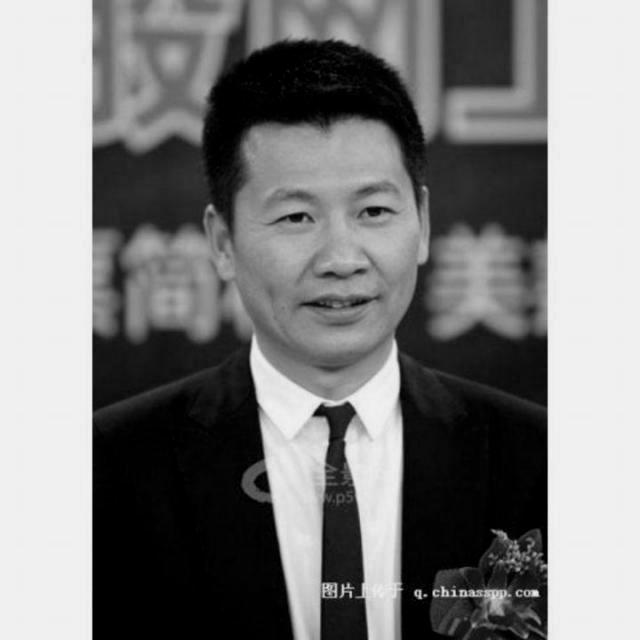real: (224, 128, 426, 364)
